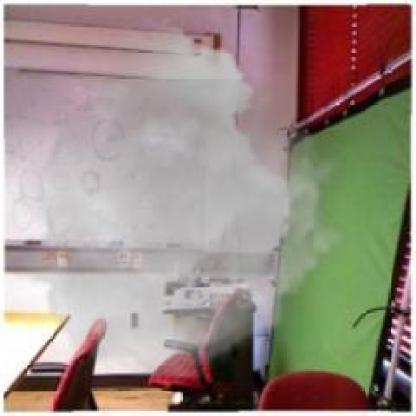Smoke: (9, 18, 355, 377)
